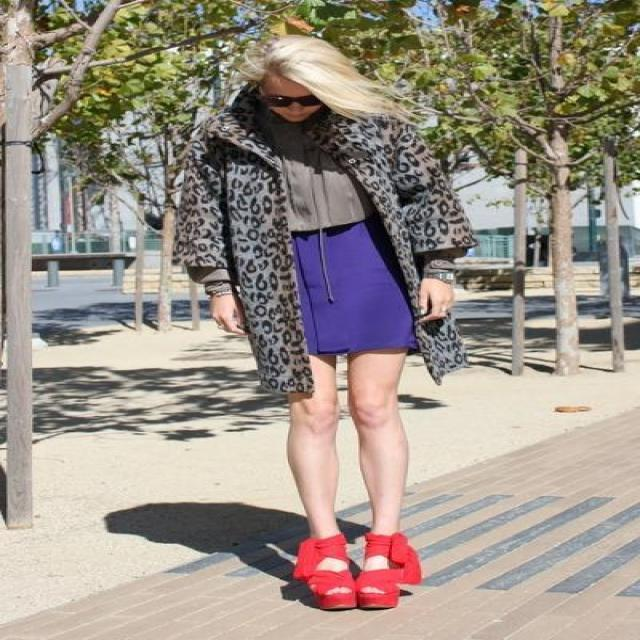jacket: (138, 90, 496, 408)
shirt: (262, 153, 364, 238)
shoe: (288, 532, 422, 611)
skirt: (288, 223, 424, 368)
